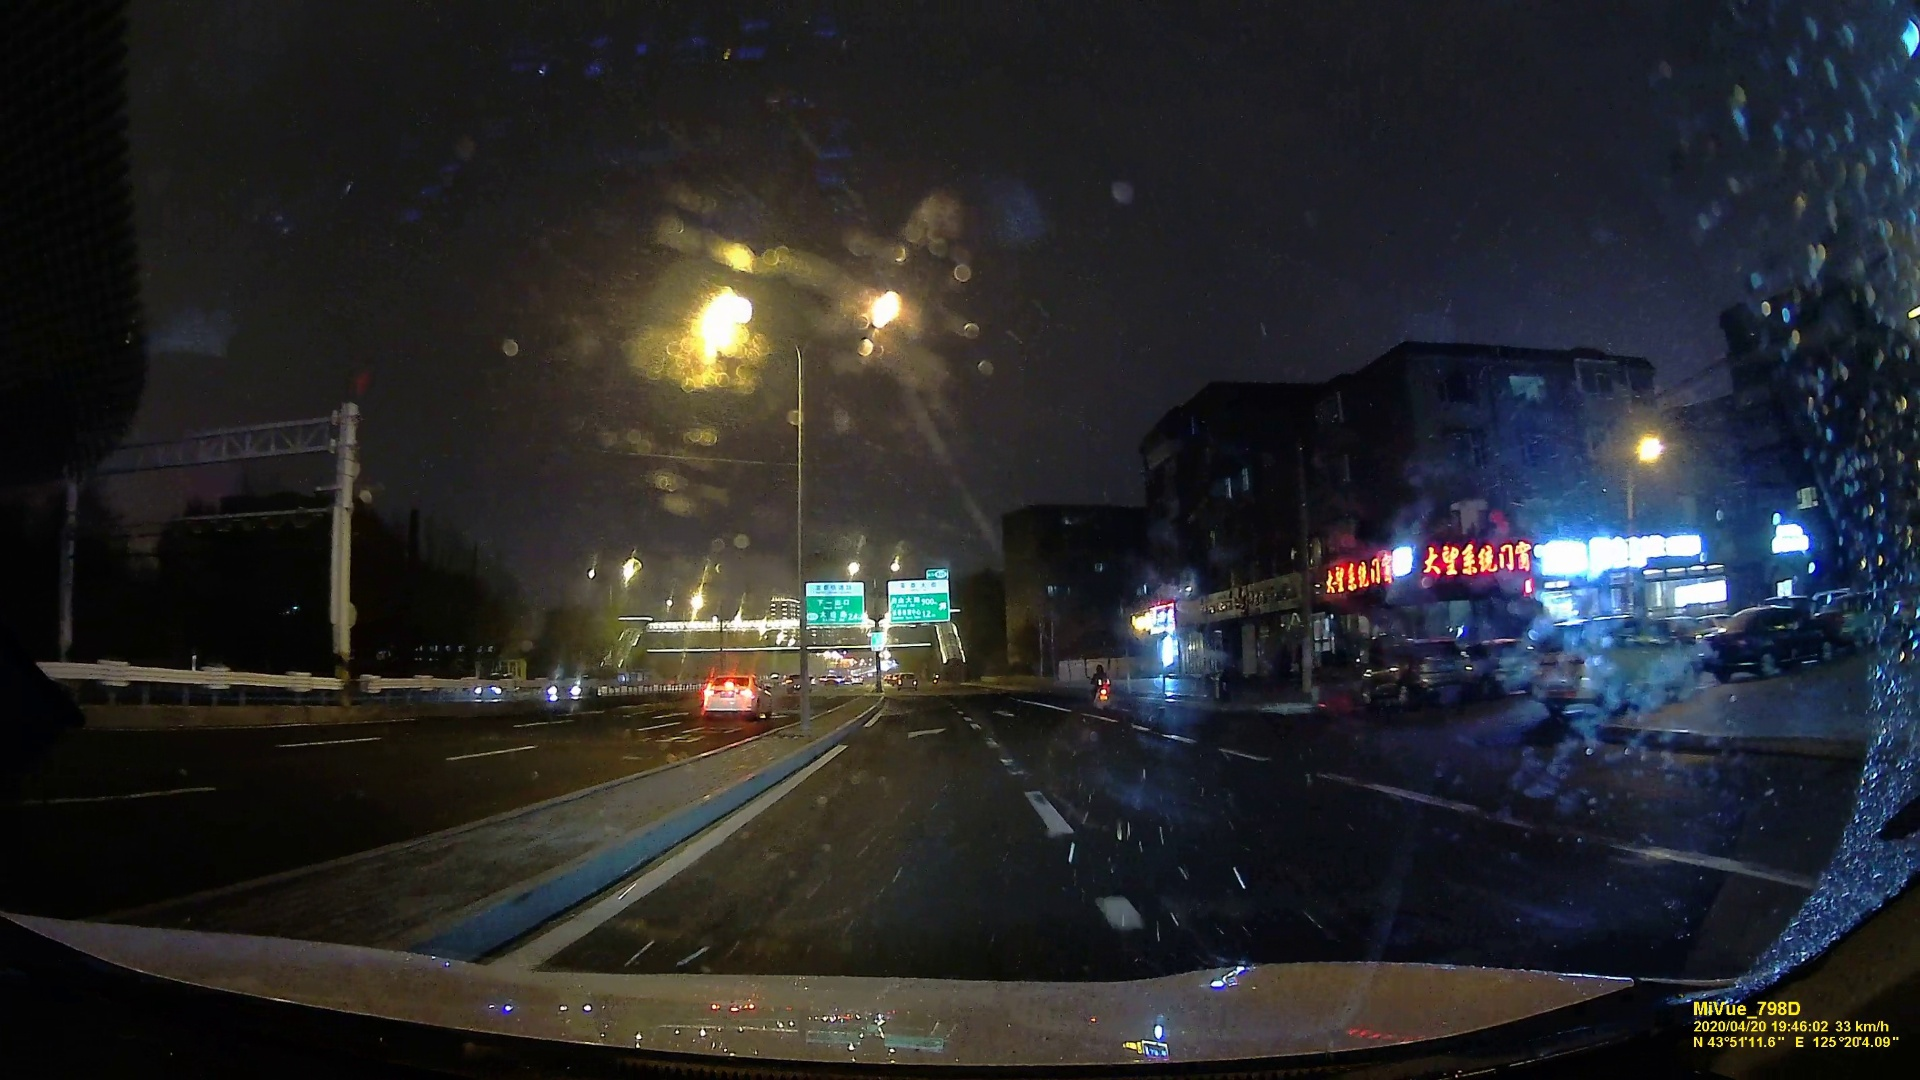person: (1091, 664, 1106, 691)
traffic_sign: (888, 579, 951, 622), (803, 582, 861, 624)
vehicle: (701, 674, 761, 719), (897, 671, 918, 691)
